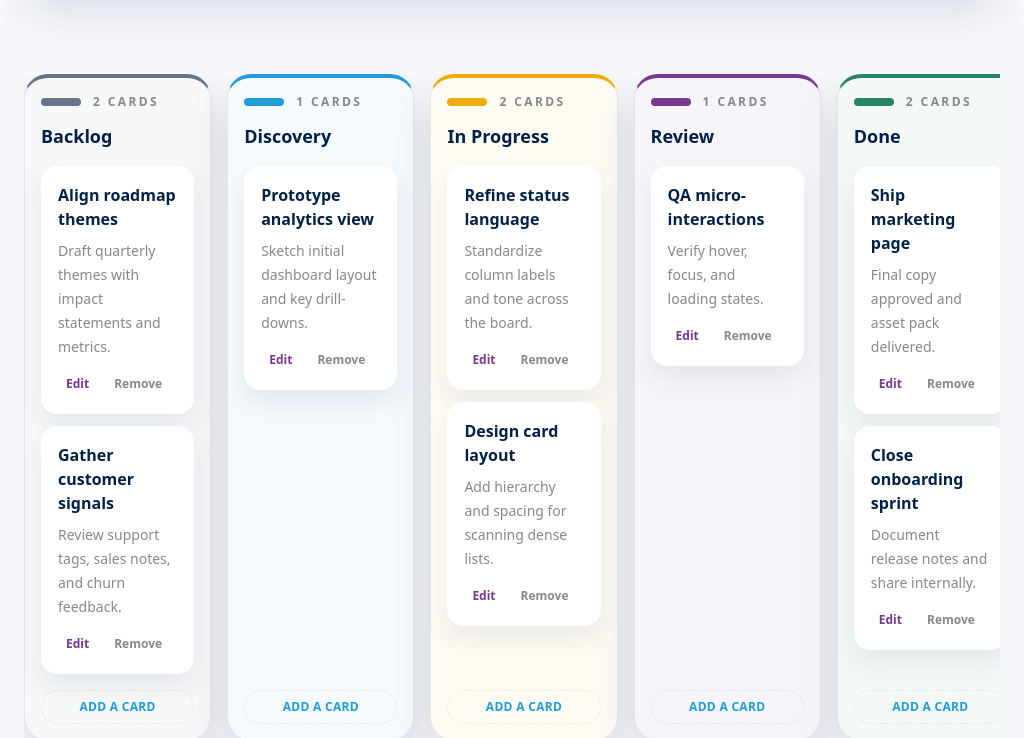
it: persistent KanbanBoard › cancels editing and preserves drafts when a save fails
(page scrolled)
Click the button with aria-label "Edit Align roadmap themes": click(78, 384) [58,371,97,397]
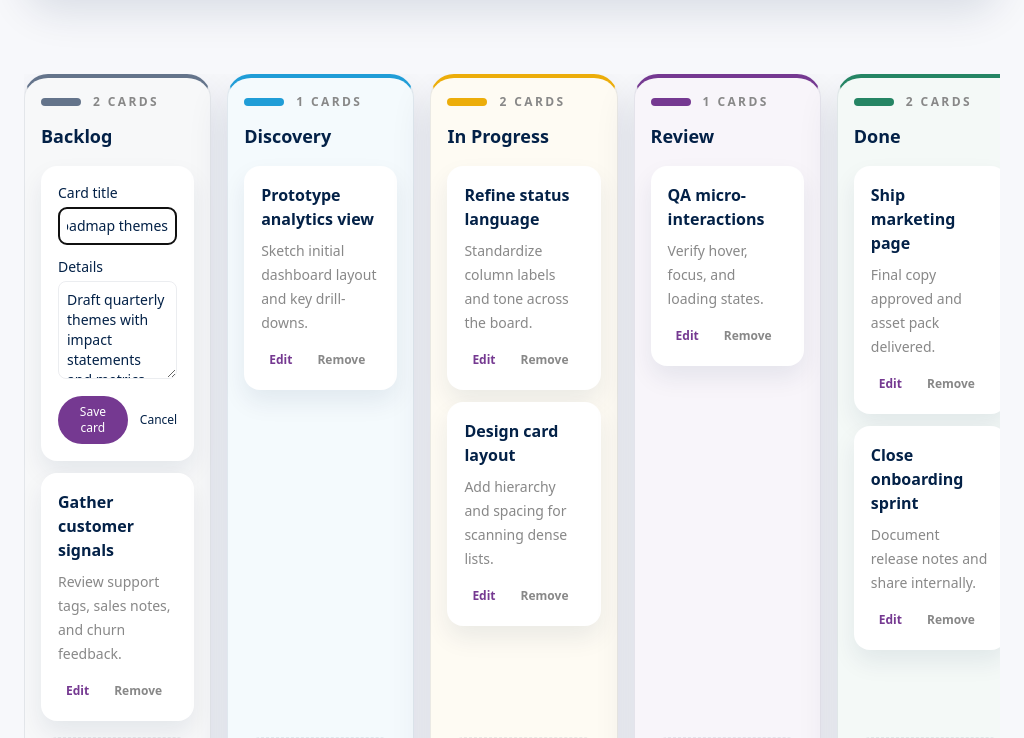
Replace the text in the field labelled "Card title" with "Draft title": (118, 226) [58,207,177,245]
Click the button "Cancel": click(158, 420) [140,396,177,444]
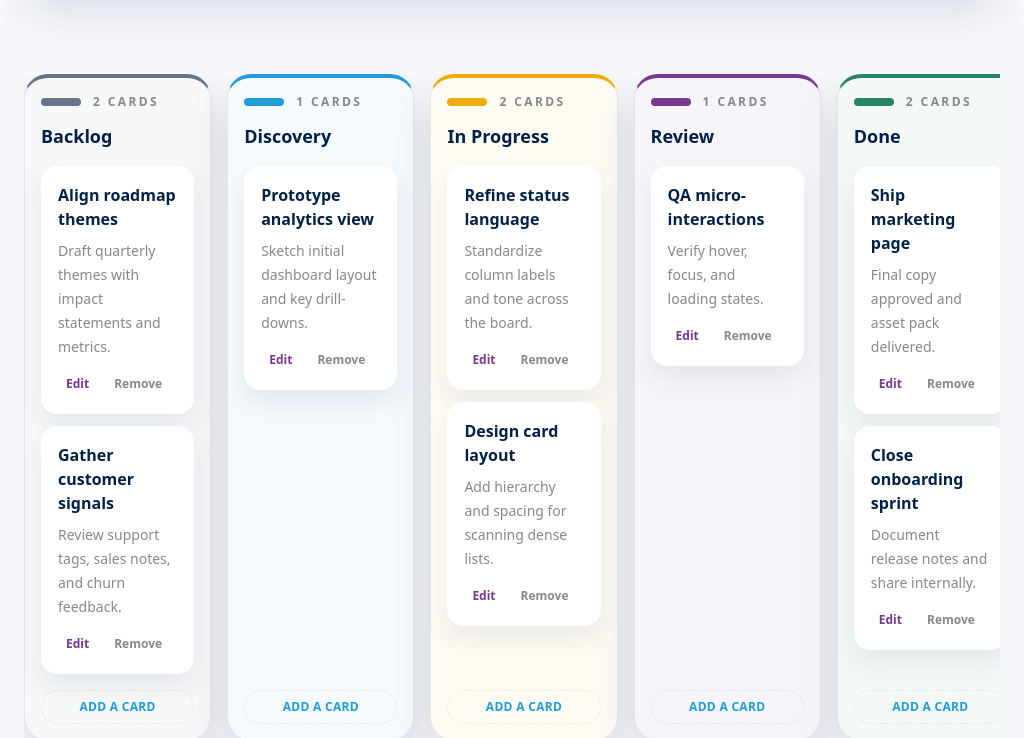
Click the button with aria-label "Edit Align roadmap themes": click(78, 384) [58,371,97,397]
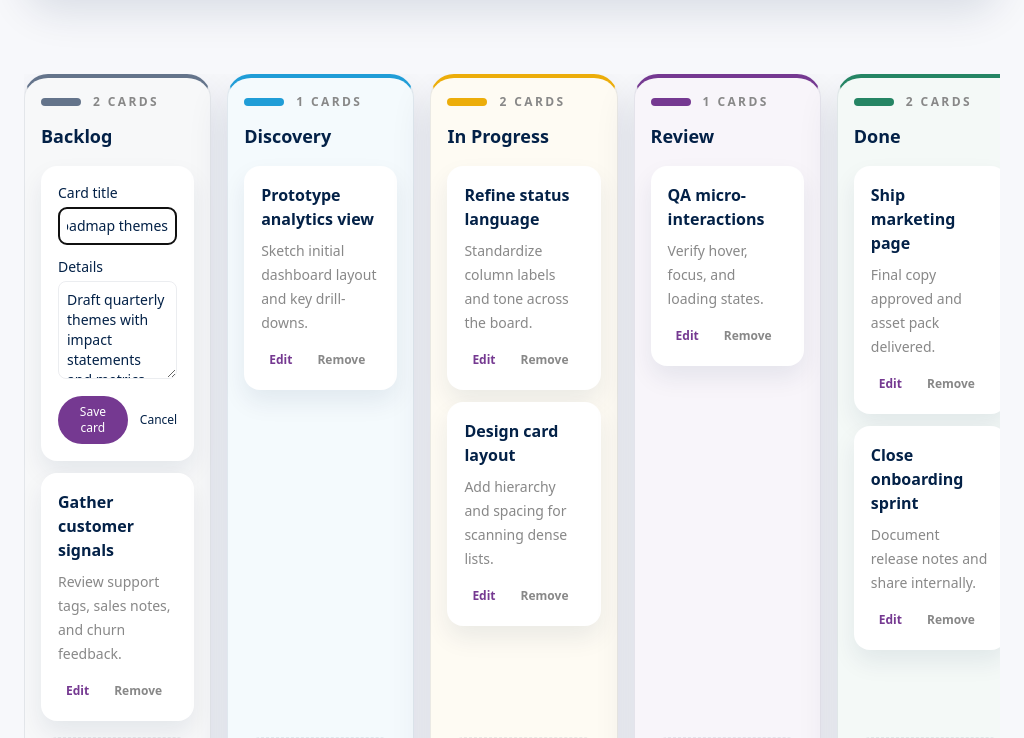
Expected: the field labelled "Card title" holds "Align roadmap themes"
Replace the text in the field labelled "Card title" with "Saved title": (118, 226) [58,207,177,245]
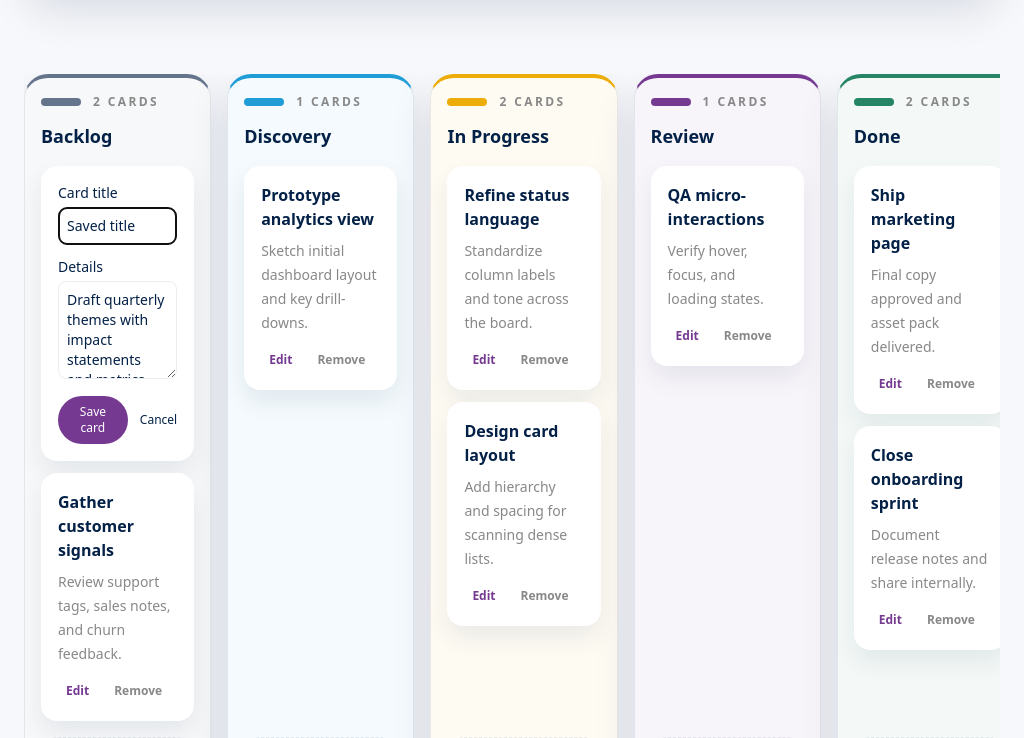
Click the button "Save card": click(93, 420) [58,396,128,444]
(page scrolled)
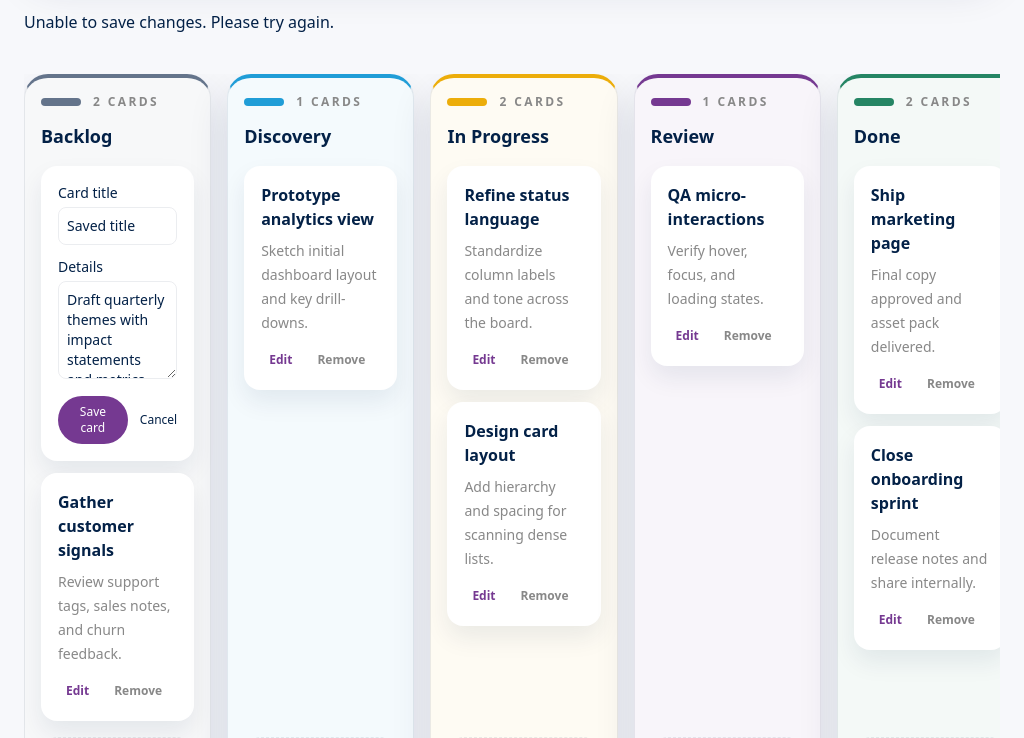
Expected: the message shows "Unable to save", [24,11,334,33]
Click the button "Save card": click(93, 420) [58,396,128,444]
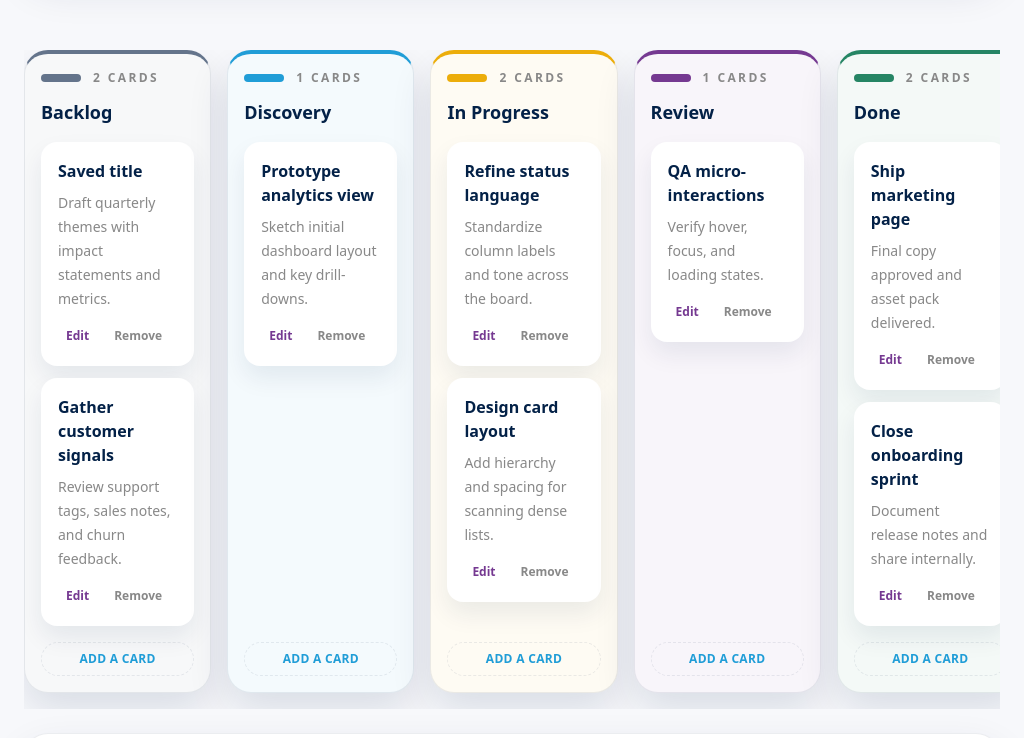
Expected: the heading "Saved title" is shown, [58,160,142,182]
